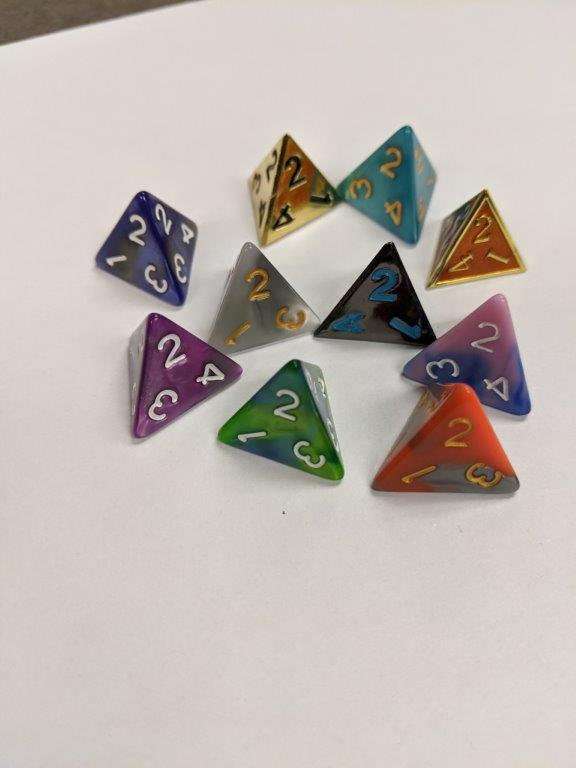d4-2: (365, 376, 520, 502), (219, 358, 347, 486), (402, 288, 530, 413), (126, 311, 242, 442), (206, 240, 320, 357), (315, 240, 436, 348), (333, 124, 438, 248), (93, 190, 198, 308), (424, 188, 527, 288), (245, 133, 336, 245)
